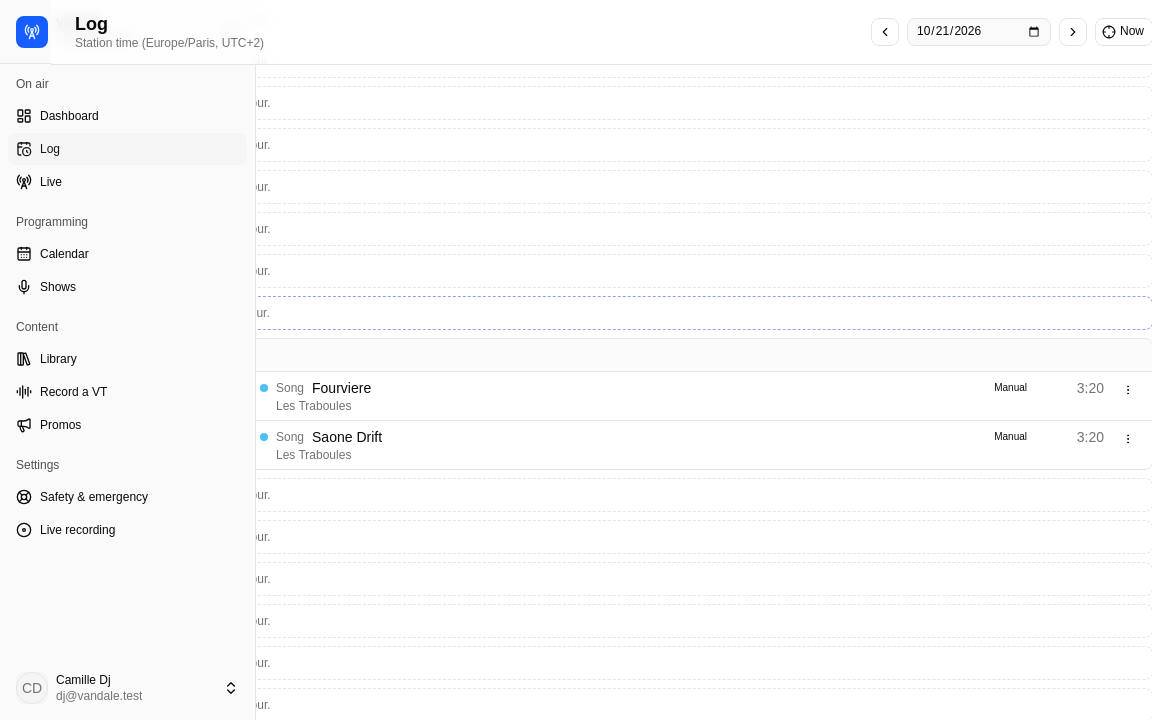
Test: segue editor › opens from the timeline on a transition
(page scrolled)
Click the button named "Actions for Fourviere" at (1128, 390), box [1116, 378, 1140, 402]
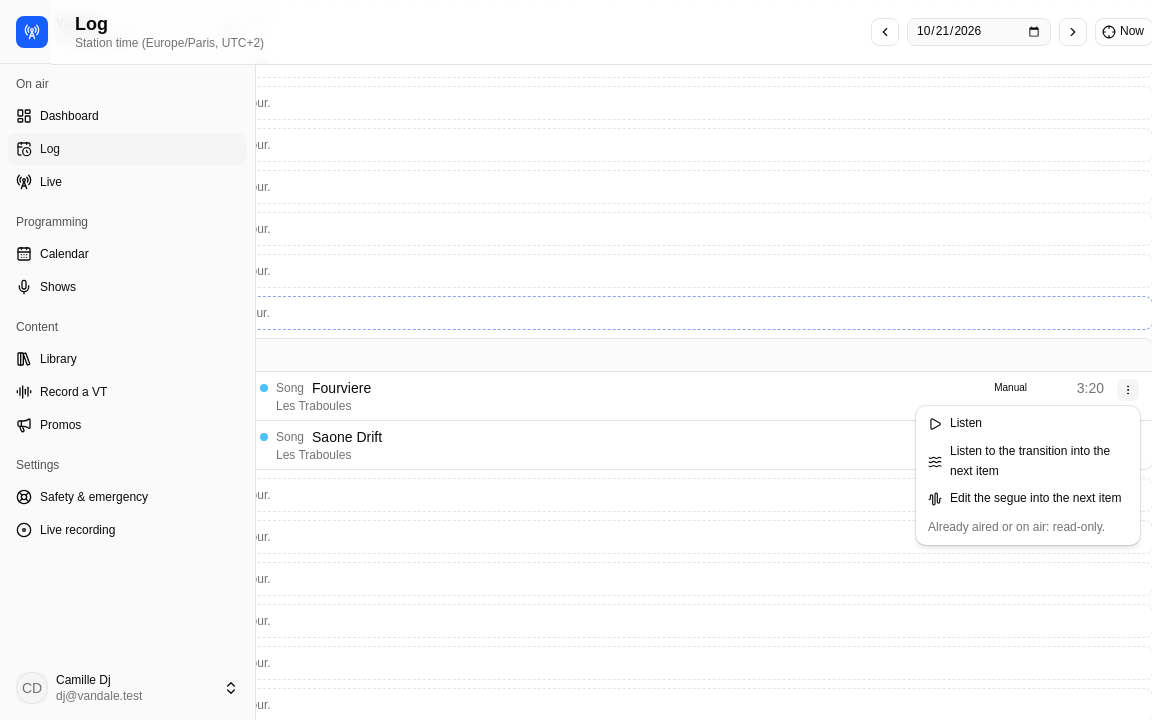
Click the menu item "Edit the segue into the next item" at (1025, 499), box [928, 491, 1122, 506]
(page scrolled)
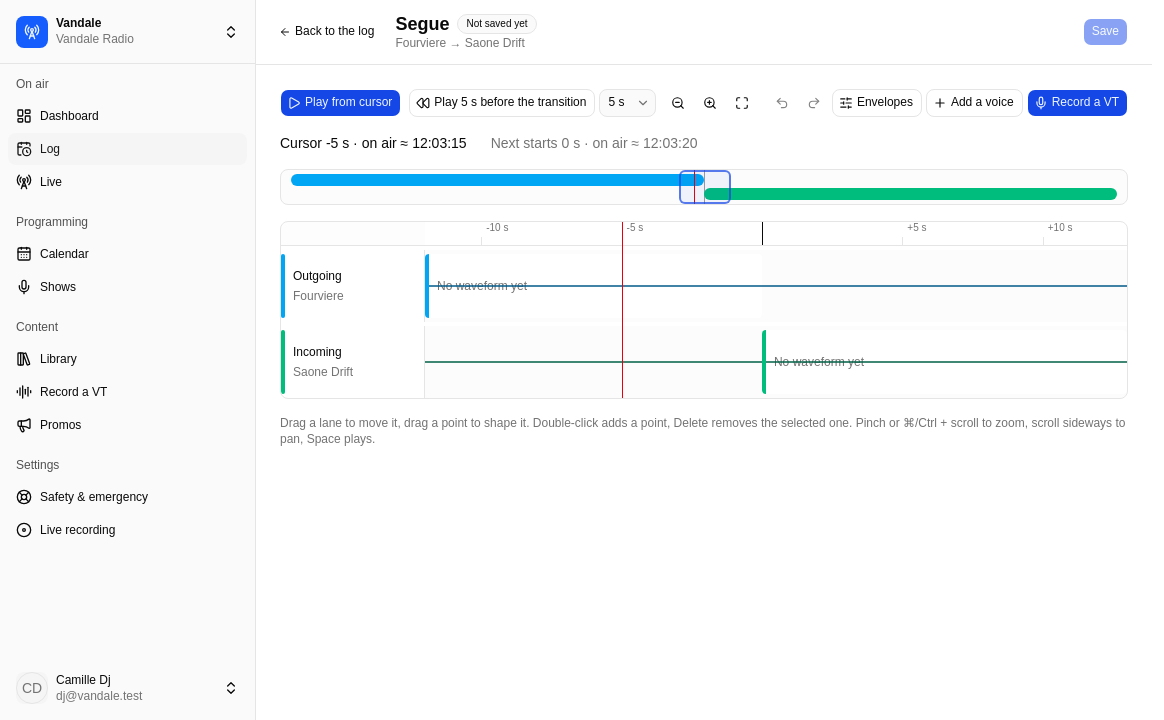
Now the heading "Segue" is shown, box [395, 13, 449, 35]
